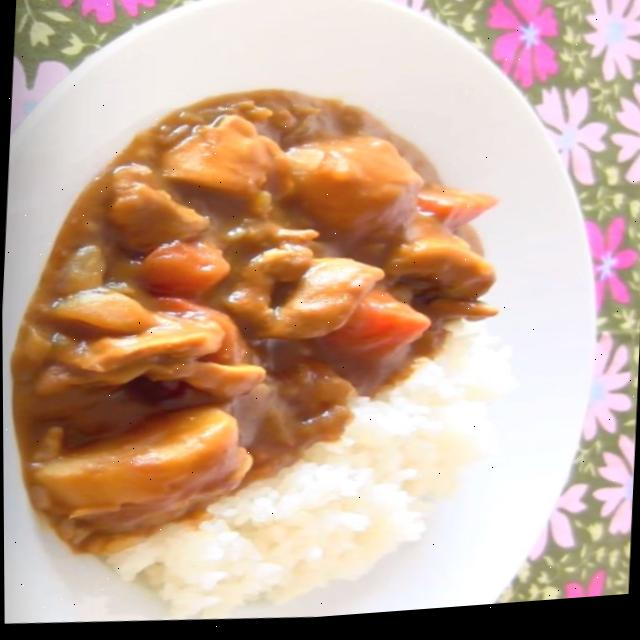Wet: (1, 65, 531, 640)
